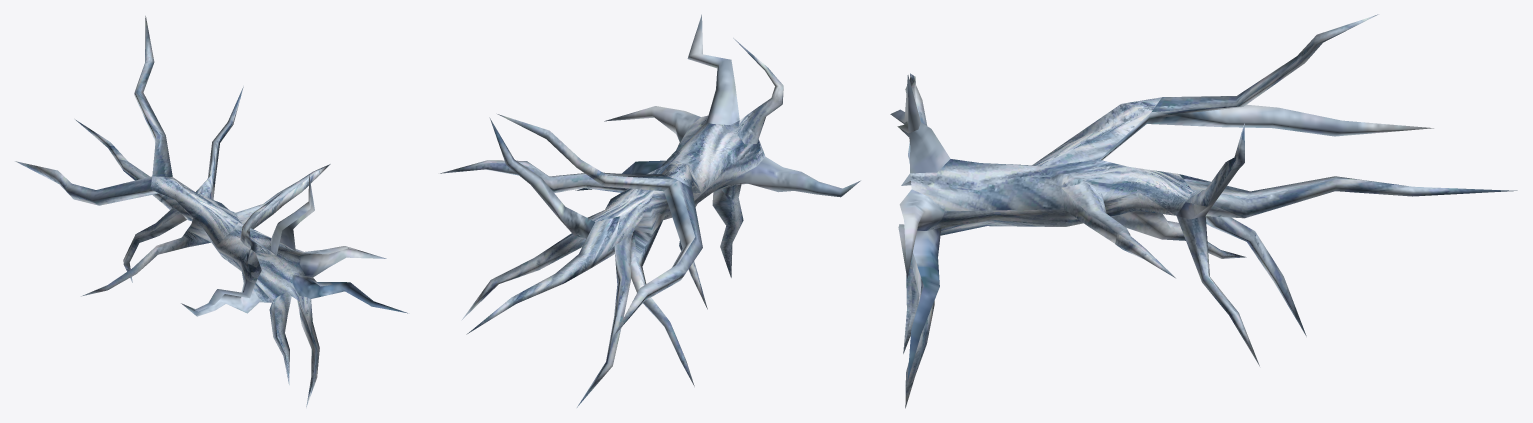
3 renders of one model, left to right at view 1: azimuth 30°, elevation 25°; view 2: azimuth 150°, elevation 25°; view 3: azimuth 270°, elevation 25°, orthographic. The views are drawn at different scales.
Visible parts, largest first — view 1: Object05; view 2: Object05; view 3: Object05.
Boxes of the visible parts, x1,y1,x2,y2 form: Object05: (15, 16, 407, 407); Object05: (440, 14, 860, 407); Object05: (890, 14, 1517, 408).
Size of the model in its own units: 48879 by 52928 by 75909.
